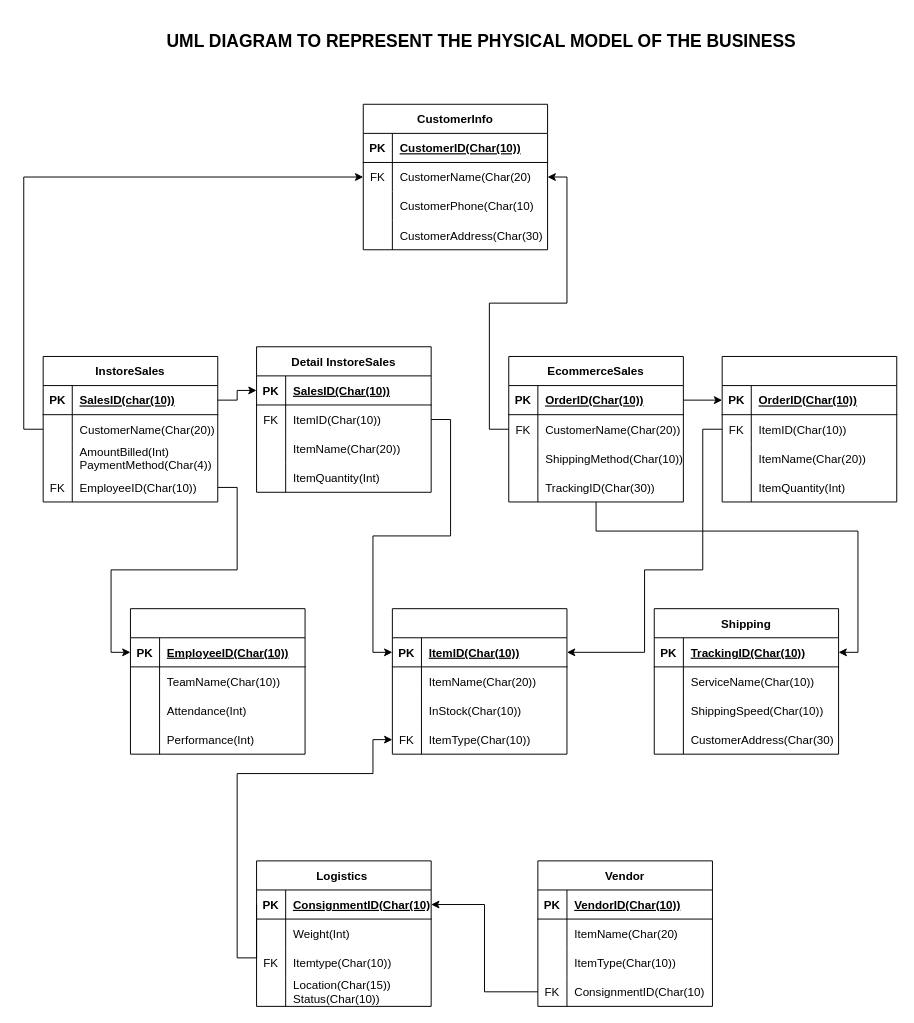
Some shapes in this 914 by 1023 pixel diagram are drawn without their labels. Each missing label, with the box of its shape:
Detail EcommerceSales: (721, 356, 897, 502)
Inventory: (391, 608, 567, 754)
Operations: (129, 608, 305, 754)
